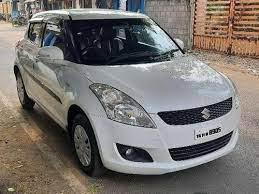Hatchback: (9, 7, 245, 178)
